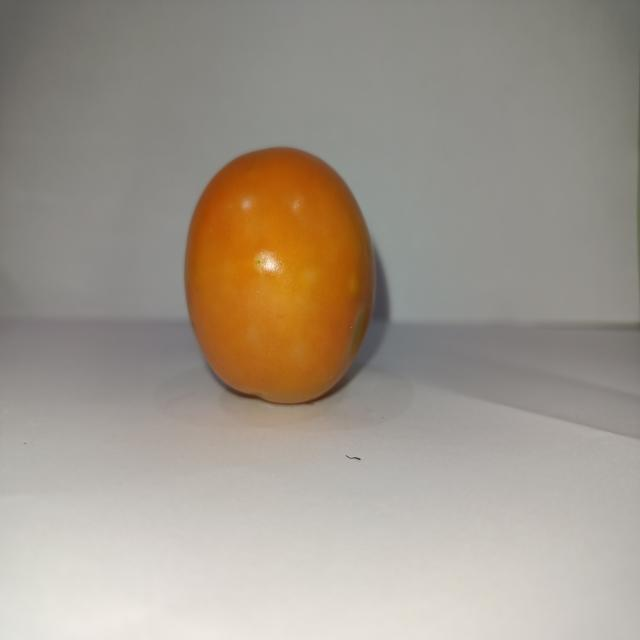Red: (182, 145, 377, 405)
